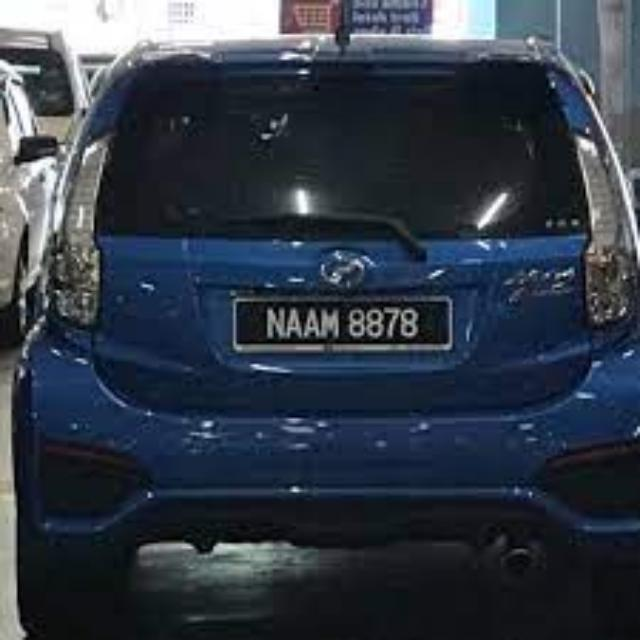License_Plate: (238, 285, 454, 370)
car: (19, 30, 640, 627)
